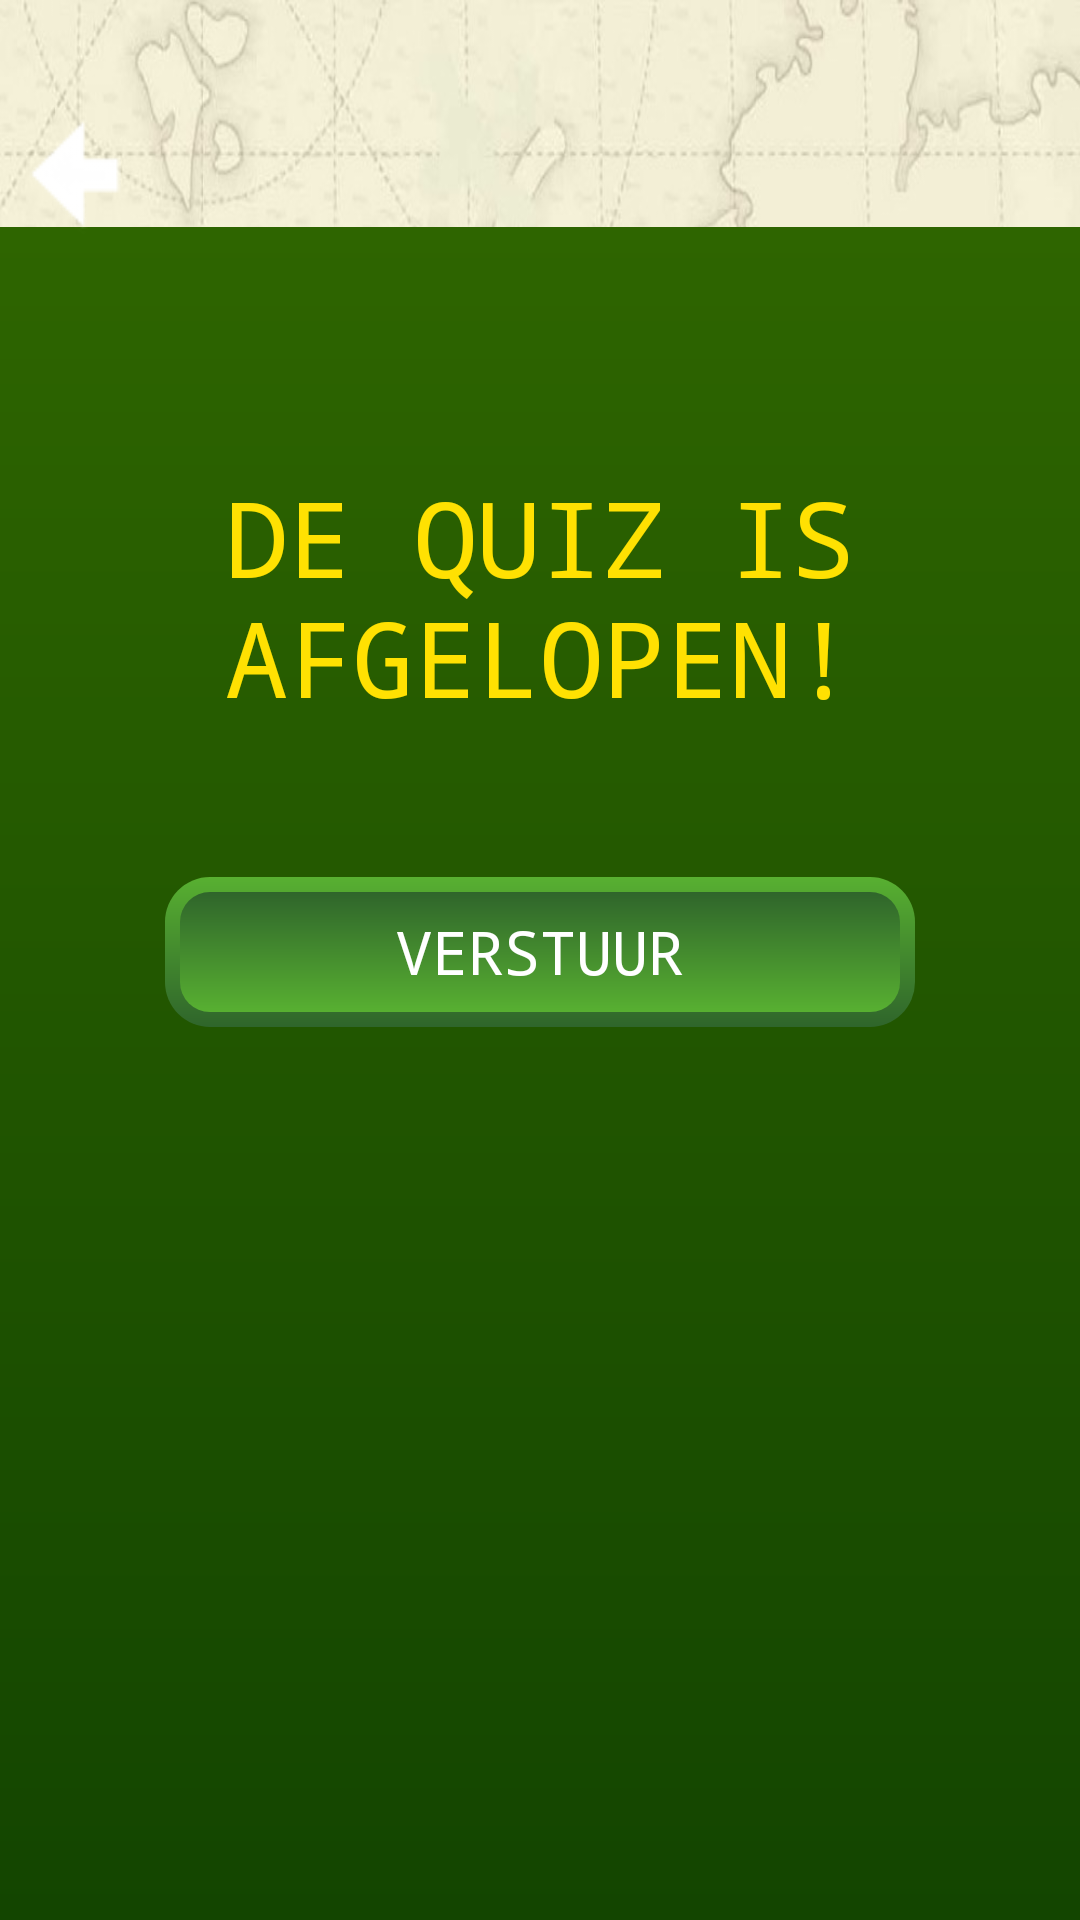

Named icons in this screenshot (1080w x 1920h) and their centers, (x=x, y=y):
backbtn: (x=75, y=174)
